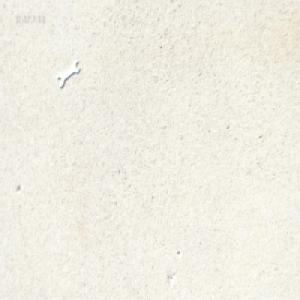Wrench: (56, 57, 79, 88)
